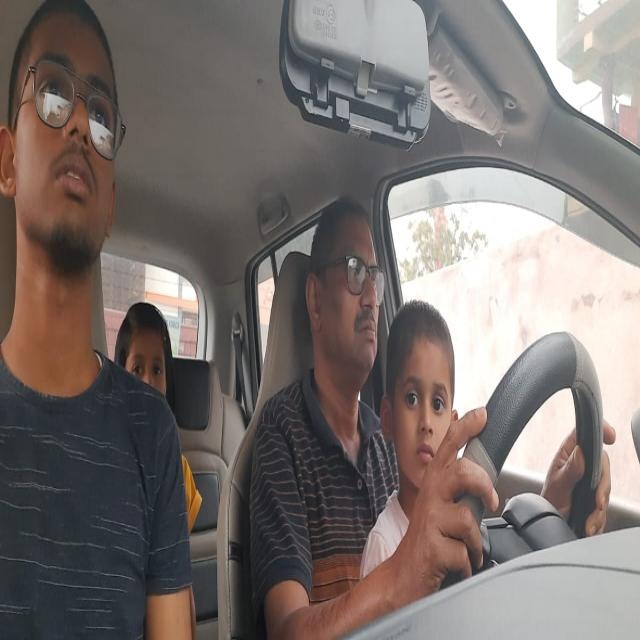child: (388, 315, 455, 468)
person: (5, 7, 127, 272), (306, 194, 382, 385), (122, 304, 177, 395)
